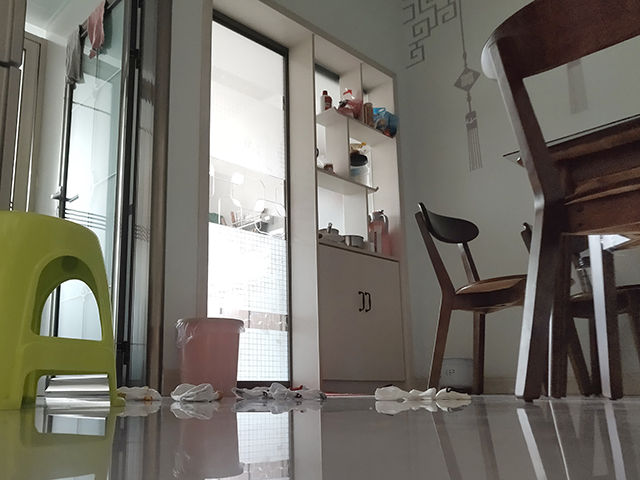cabinet: (286, 240, 399, 394)
socks: (114, 381, 224, 404), (228, 378, 329, 403), (373, 383, 472, 402)
stool: (478, 1, 640, 404), (413, 201, 594, 399), (1, 209, 118, 412), (519, 219, 640, 404)
trashcan: (175, 315, 246, 398)
